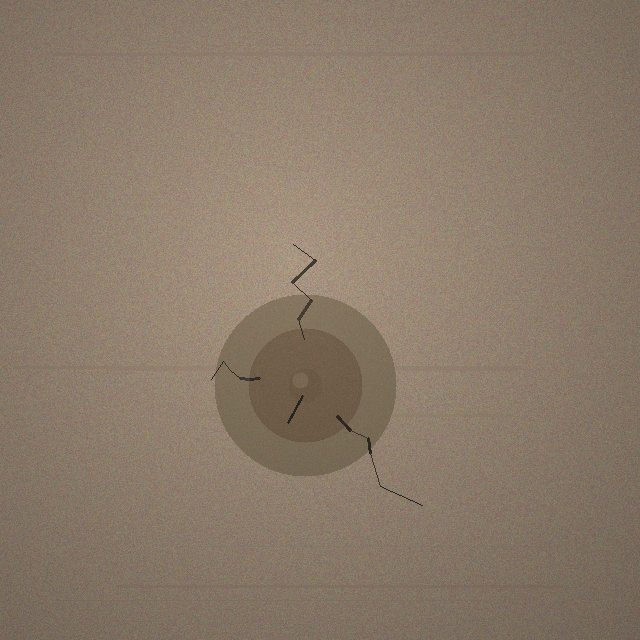crack: (214, 294, 396, 476)
